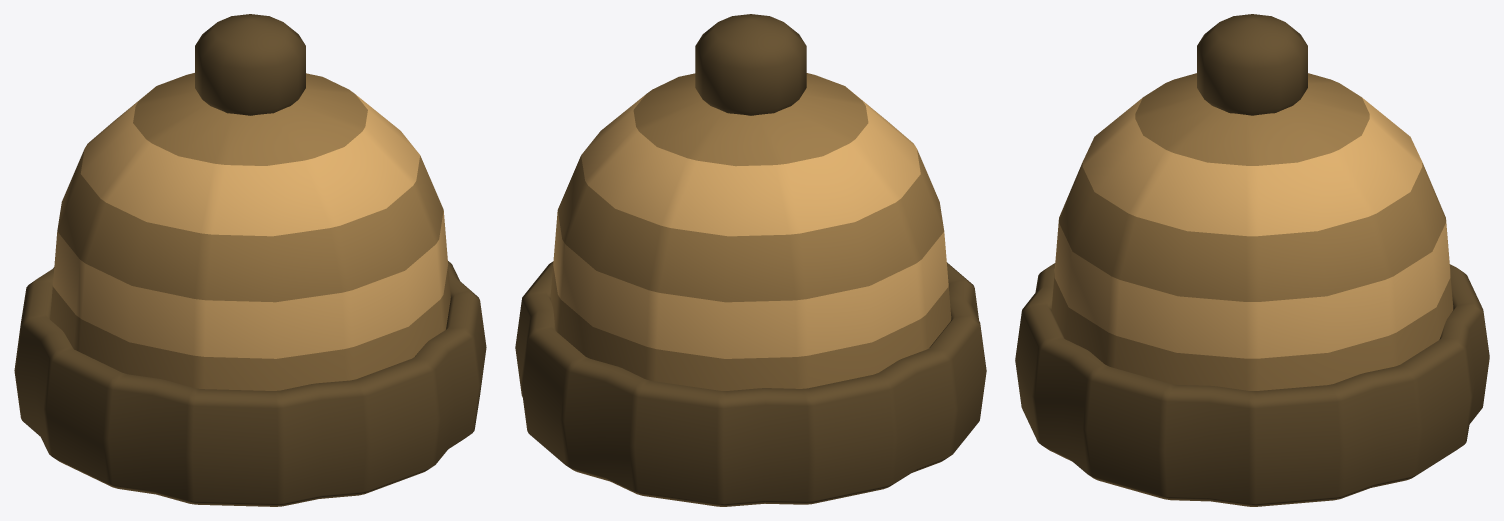
File: Hat 4.fbx
The picture shows the model from 3 angles, left to right: view 1: azimuth 30°, elevation 25°; view 2: azimuth 150°, elevation 25°; view 3: azimuth 270°, elevation 25°; orthographic projection.
Visible parts, largest first — view 1: Bobble Hat; view 2: Bobble Hat; view 3: Bobble Hat.
Part boxes in pixels (x1,y1,x2,y2): Bobble Hat: [14, 14, 486, 506]; Bobble Hat: [515, 14, 986, 506]; Bobble Hat: [1015, 14, 1489, 506].
Size of the model in its own units: 131 by 119 by 131.
